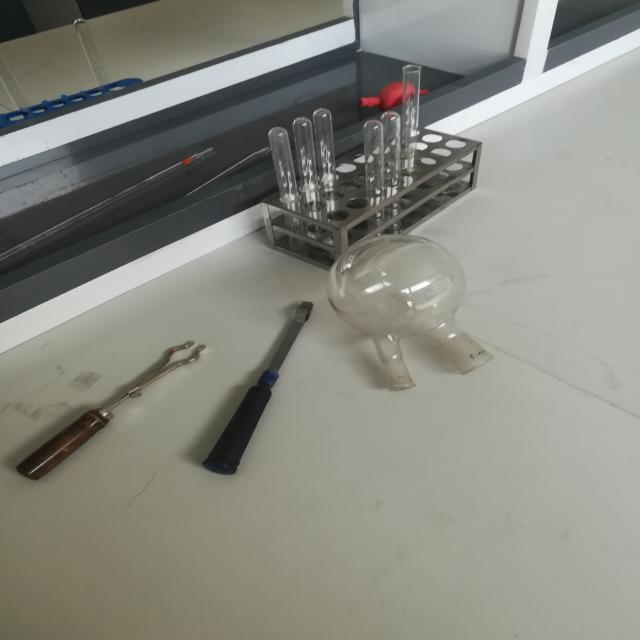Round_Bottom_Flask_Borosilicate_Glass_2_Neck: (327, 156, 504, 420)
TestTube_Holder: (2, 247, 180, 509), (179, 260, 321, 501)
